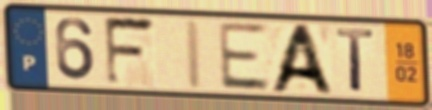6: (53, 16, 98, 83)
A: (265, 23, 338, 97)
E: (215, 19, 273, 93)
F: (101, 15, 159, 89)
I: (183, 17, 206, 92)
T: (333, 26, 377, 96)
